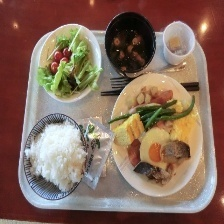rice: (23, 119, 87, 194)
